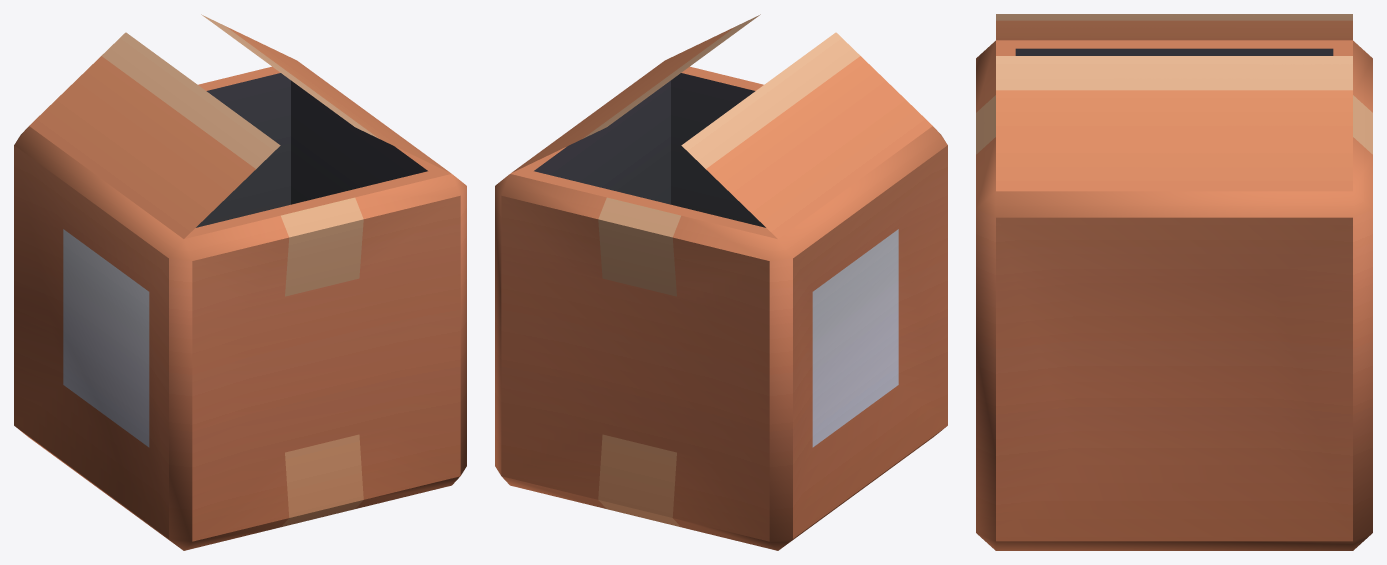
The model's file is box-open.glb.
3 views of the same model, side by side, from view 1: azimuth 30°, elevation 25°; view 2: azimuth 150°, elevation 25°; view 3: azimuth 270°, elevation 25° (orthographic). The views are drawn at different scales.
Visible parts, largest first — view 1: box-open; view 2: box-open; view 3: box-open.
Boxes of the visible parts, left/top/right/bottom form: box-open: left=14, top=14, right=466, bottom=550; box-open: left=495, top=14, right=947, bottom=550; box-open: left=976, top=14, right=1372, bottom=550.
Bounding box in the file's own units: 0.25 × 0.3063 × 0.25.
Materials: 1 (1 with a texture image).
